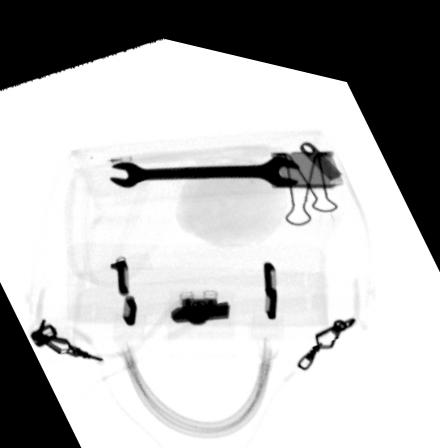Wrench: (108, 141, 303, 182)
